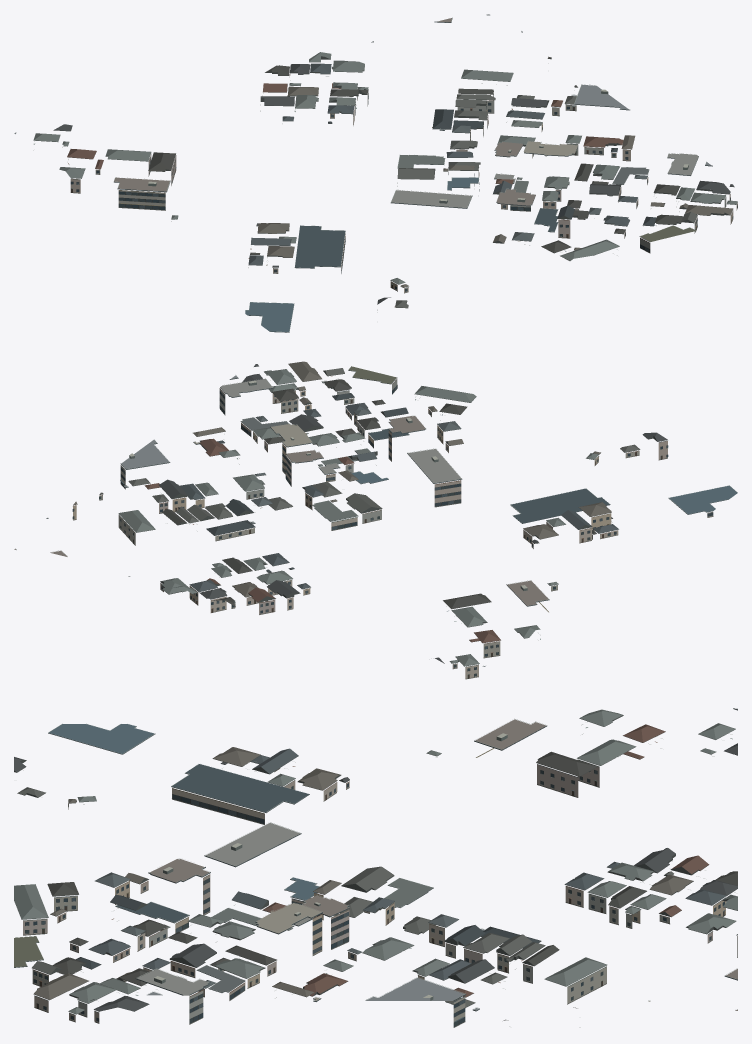
3 renders of one model, top to bottom at view 1: azimuth 30°, elevation 25°; view 2: azimuth 150°, elevation 25°; view 3: azimuth 270°, elevation 25°, orthographic. The views are drawn at different scales.
Visible parts, largest first — view 1: r3-c2; view 2: r3-c2; view 3: r3-c2.
Part boxes in pixels (bbox=[...]): r3-c2: bbox=[14, 14, 737, 332]; r3-c2: bbox=[14, 361, 737, 679]; r3-c2: bbox=[14, 708, 737, 1027].
Bounding box in the file's own units: 250 × 19.92 × 250.
